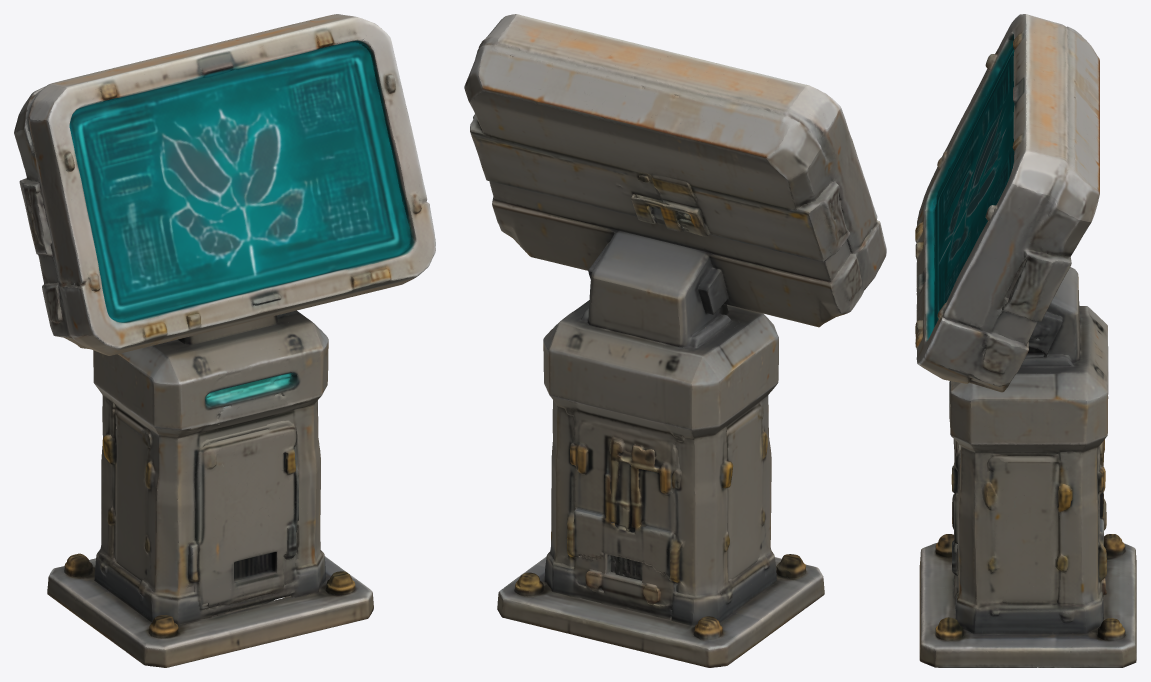
Rendered from gh_terminal.glb.
3 views of the same model, side by side, from view 1: azimuth 30°, elevation 25°; view 2: azimuth 150°, elevation 25°; view 3: azimuth 270°, elevation 25° (orthographic). The views are drawn at different scales.
Parts seen in each view (by area): view 1: world; view 2: world; view 3: world.
Part boxes in pixels (x1,y1,x2,y2): world: (14,14,435,667); world: (464,14,886,667); world: (915,14,1136,667).
Bounding box in the file's own units: 0.8069 × 1.2 × 0.4527.
Materials: 1 (1 with a texture image).
